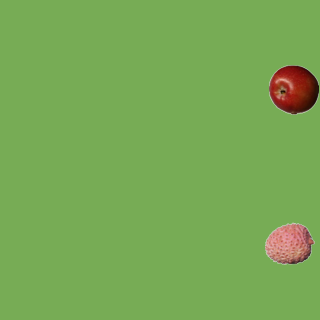Apple Braeburn: (268, 64, 318, 114)
Lychee: (264, 218, 314, 268)
